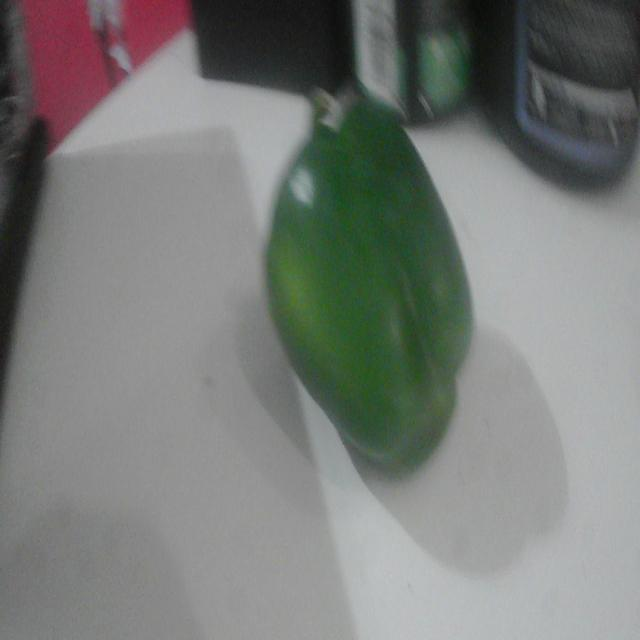Bell Pepper: (266, 92, 472, 476)
